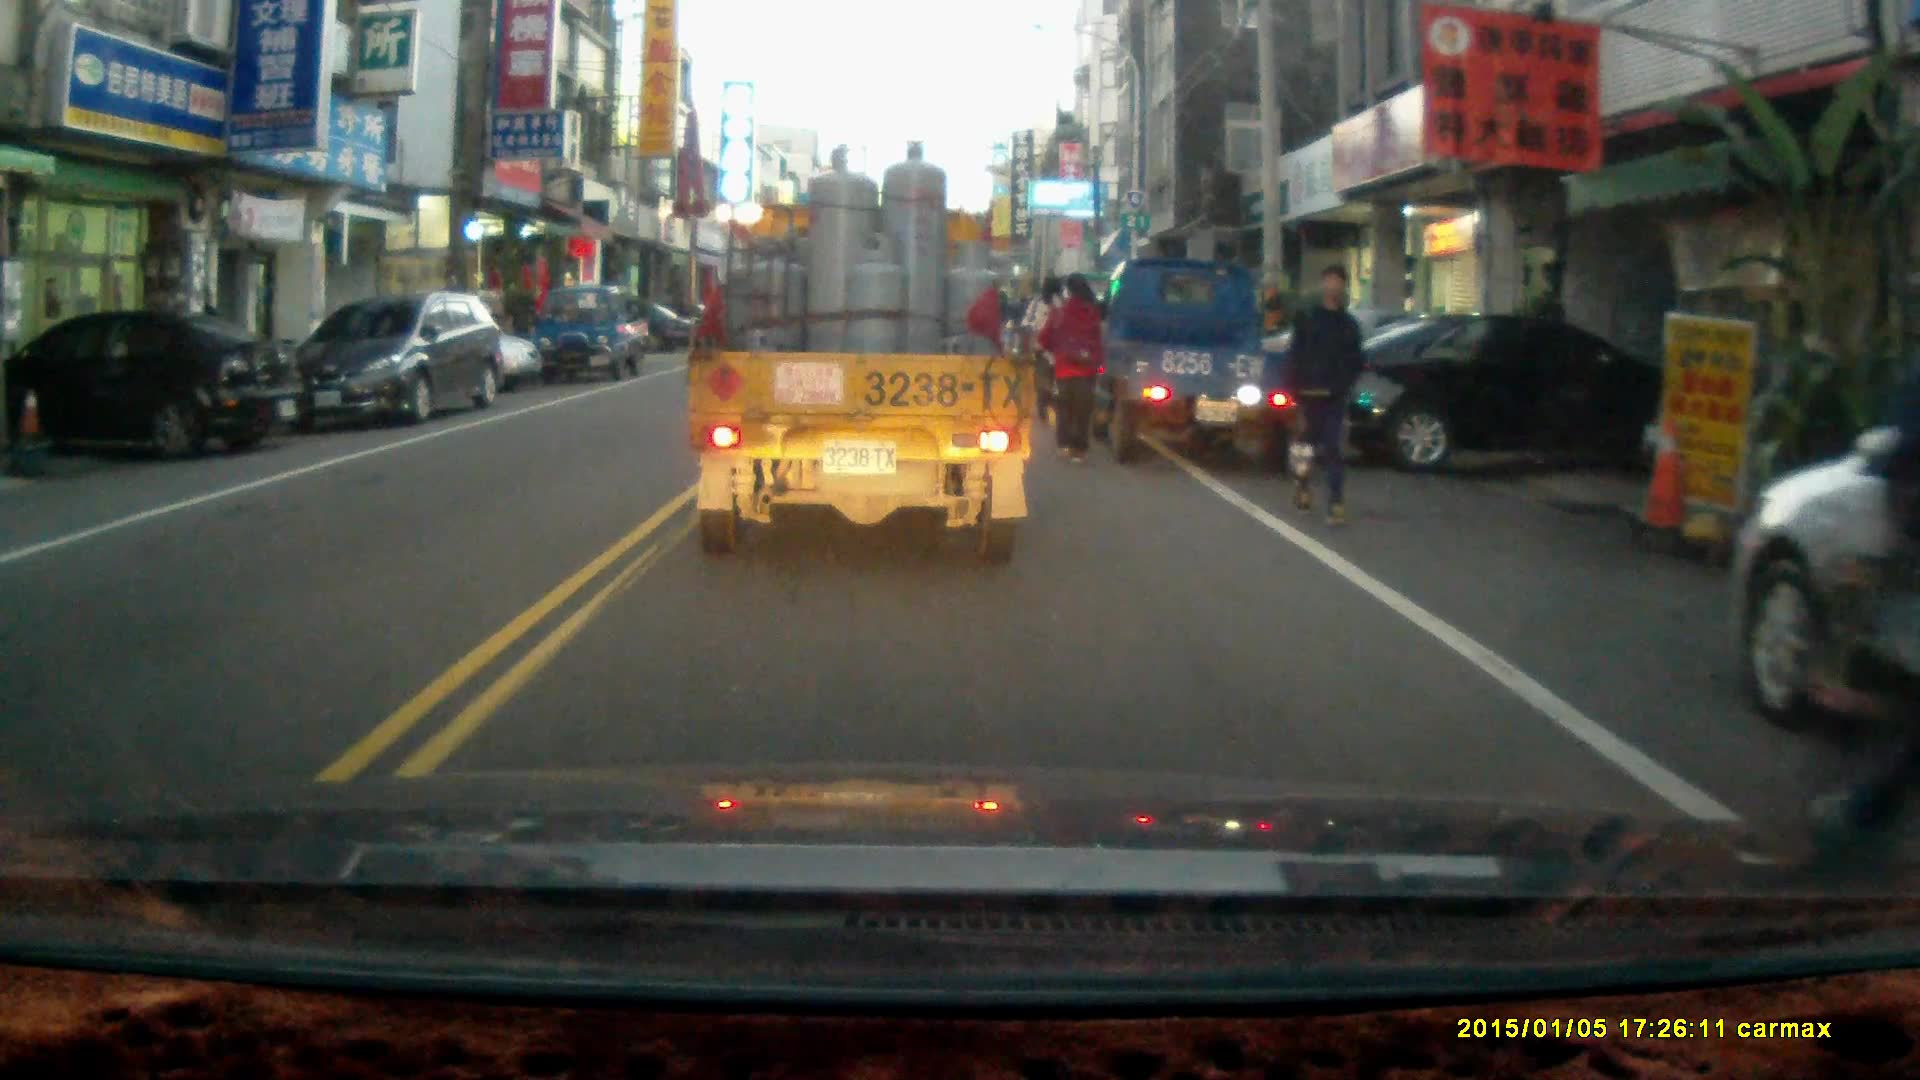pedestrian: (1276, 261, 1359, 526), (1035, 267, 1104, 462)
vehicle: (681, 139, 1039, 569), (1302, 304, 1640, 485), (1721, 459, 1920, 738), (1096, 255, 1332, 471), (1, 305, 310, 464), (278, 290, 514, 429), (534, 278, 653, 380)
